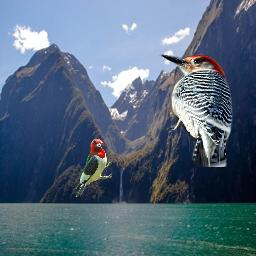Woodpecker: (156, 48, 236, 167), (74, 138, 112, 197)
